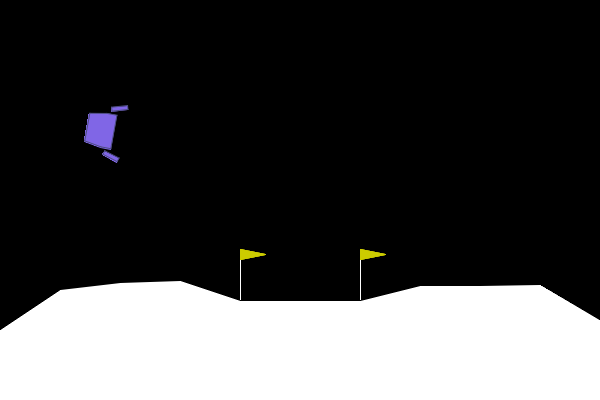lander: (79, 98, 129, 164)
